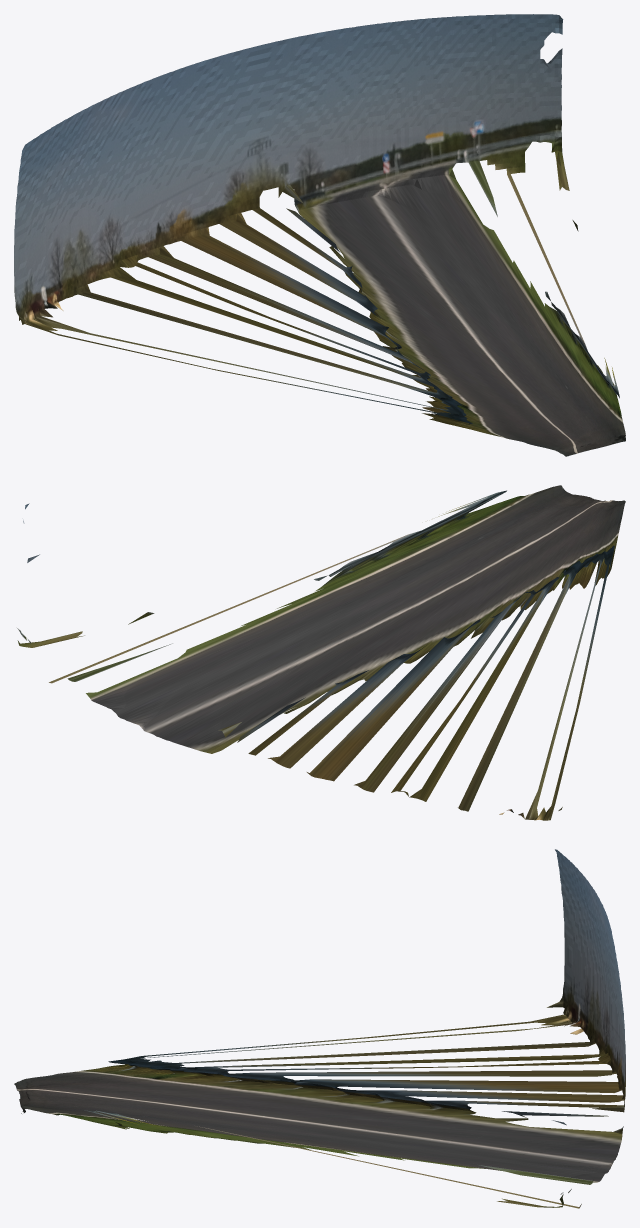
3 views of the same model, one above another, from view 1: azimuth 30°, elevation 25°; view 2: azimuth 150°, elevation 25°; view 3: azimuth 270°, elevation 25° (orthographic). The views are drawn at different scales.
Parts seen in each view (by area): view 1: defaultobject; view 2: defaultobject; view 3: defaultobject.
Part boxes in pixels (x1,y1,x2,y2): defaultobject: (14,14,625,456); defaultobject: (17,485,625,820); defaultobject: (14,849,625,1208).
Bounding box in the file's own units: 41.16 × 14.21 × 44.7.
Materials: 1 (1 with a texture image).
